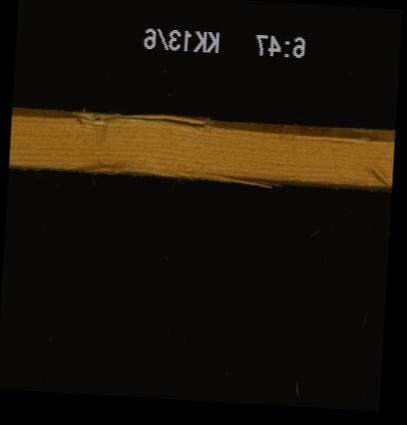wave: (11, 110, 393, 134), (9, 165, 388, 188)
